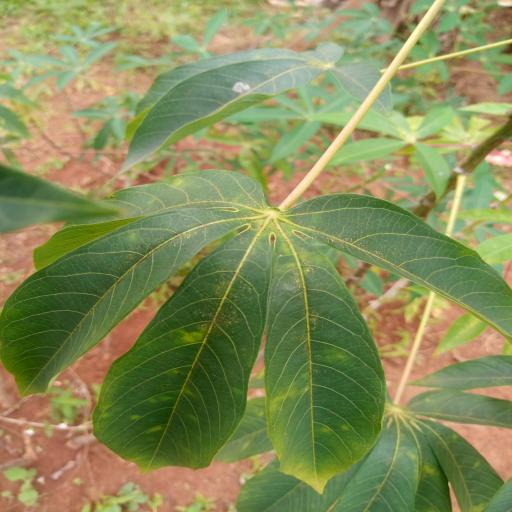Cassava_Mosaic: (5, 155, 512, 485)
